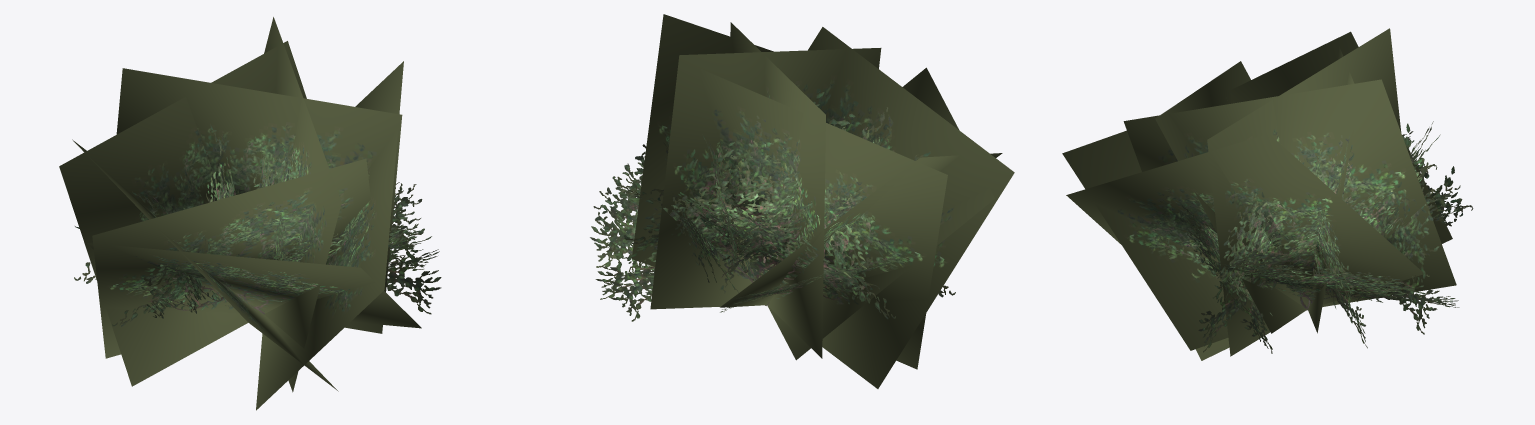
The model's file is shrb_leafy_full_green_a1_l0.fbx.
3 renders of one model, left to right at view 1: azimuth 30°, elevation 25°; view 2: azimuth 150°, elevation 25°; view 3: azimuth 270°, elevation 25°, orthographic. The views are drawn at different scales.
Parts seen in each view (by area): view 1: mesh_node; view 2: mesh_node; view 3: mesh_node.
Boxes of the visible parts, <box> form: mesh_node: <box>59,17,441,410</box>; mesh_node: <box>590,14,1014,388</box>; mesh_node: <box>1062,28,1473,360</box>.
Size of the model in its own units: 2.05 by 1.52 by 1.94.
